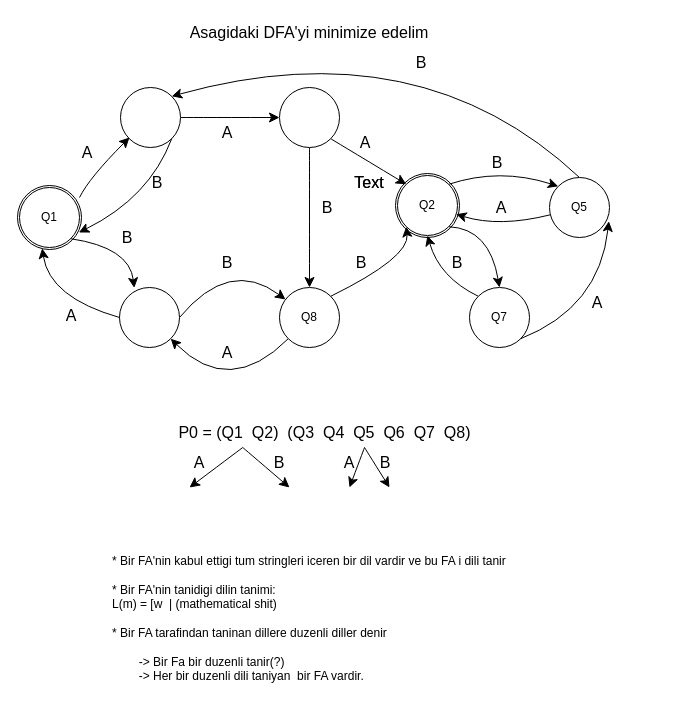
The diagram is 678 pixels wide and 717 high, and some of its shapes have lost their labels. The box of each missing label's shape, as (x1, y1, x2, y2) in pixels:
Q3: (278, 86, 340, 148)
Q4: (118, 286, 180, 348)
Q6: (120, 86, 180, 148)
